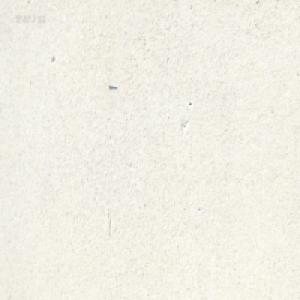Nail: (107, 82, 117, 88)
